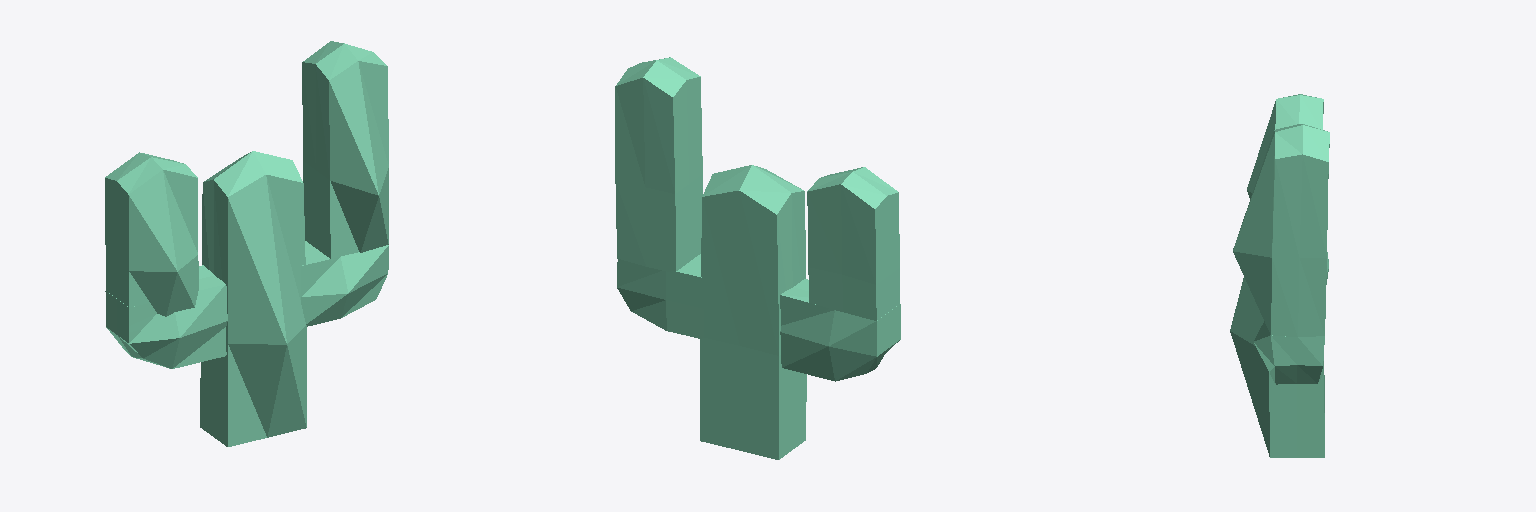
The model's file is cactus.obj.
3 renders of one model, left to right at view 1: azimuth 30°, elevation 25°; view 2: azimuth 150°, elevation 25°; view 3: azimuth 270°, elevation 25°, orthographic.
Visible parts, largest first — view 1: Cube.004; view 2: Cube.004; view 3: Cube.004.
Boxes of the visible parts, x1,y1,x2,y2 form: Cube.004: [105, 41, 388, 446]; Cube.004: [615, 57, 900, 459]; Cube.004: [1230, 94, 1329, 457].
Size of the model in its own units: 1.31 by 1.74 by 0.4386.